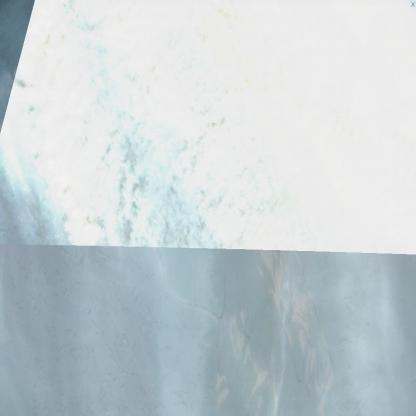fire: (0, 136, 35, 223)
